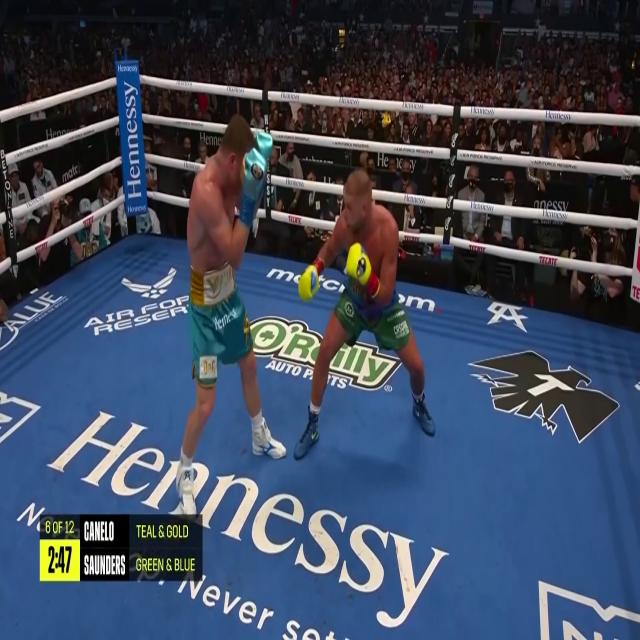boxer_1: (339, 169, 390, 288)
boxer_2: (187, 115, 254, 271)
gloves_1: (346, 243, 379, 297), (298, 259, 324, 302)
gloves_2: (238, 132, 274, 229)
